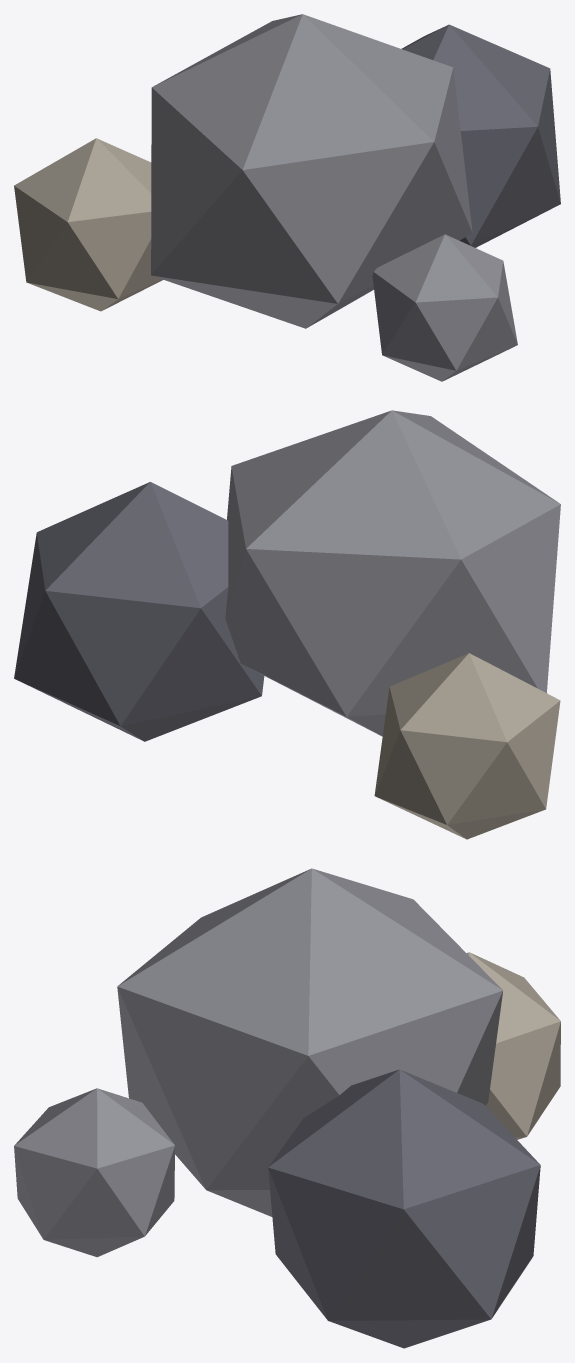
File: nature2_rock_cluster.glb
3 views of the same model, one above another, from view 1: azimuth 30°, elevation 25°; view 2: azimuth 150°, elevation 25°; view 3: azimuth 270°, elevation 25° (orthographic). The views are drawn at different scales.
Parts seen in each view (by area): view 1: rock_cluster; view 2: rock_cluster; view 3: rock_cluster.
Boxes of the visible parts, x1,y1,x2,y2 form: rock_cluster: [14, 14, 560, 381]; rock_cluster: [14, 410, 560, 839]; rock_cluster: [14, 868, 560, 1348].
Size of the model in its own units: 1.08 by 0.6668 by 0.8844.
